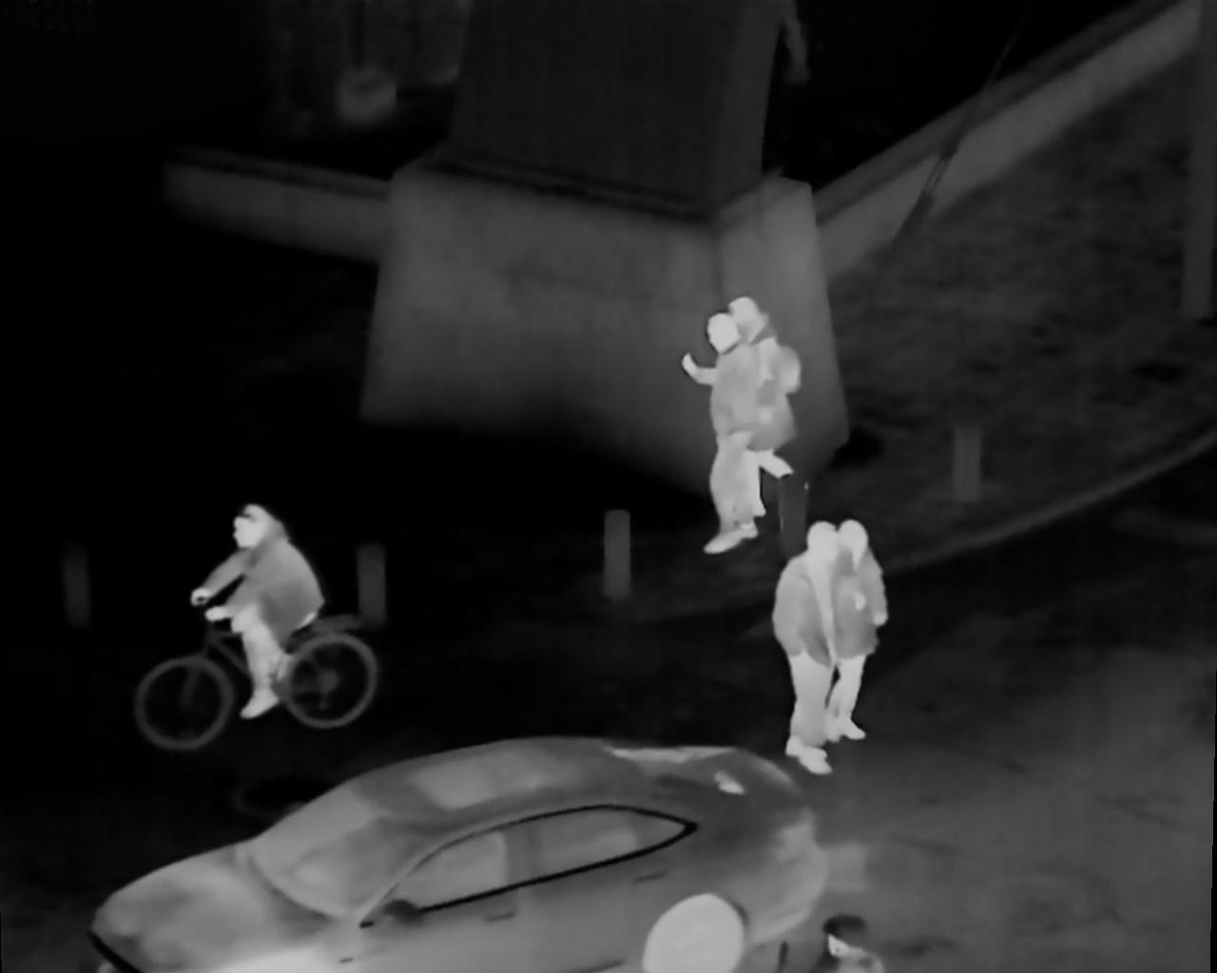person: (202, 507, 308, 702), (814, 531, 885, 745), (728, 296, 807, 473), (709, 316, 762, 555), (773, 518, 818, 769)
